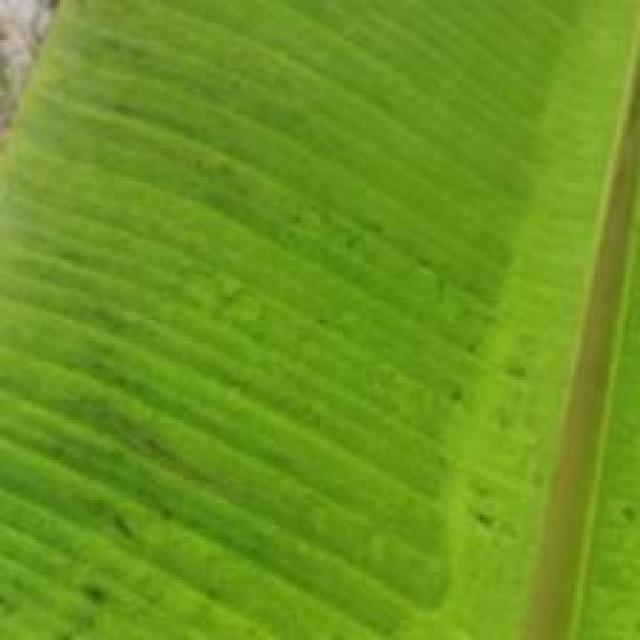Black_leaf_spot: (19, 8, 640, 640)
